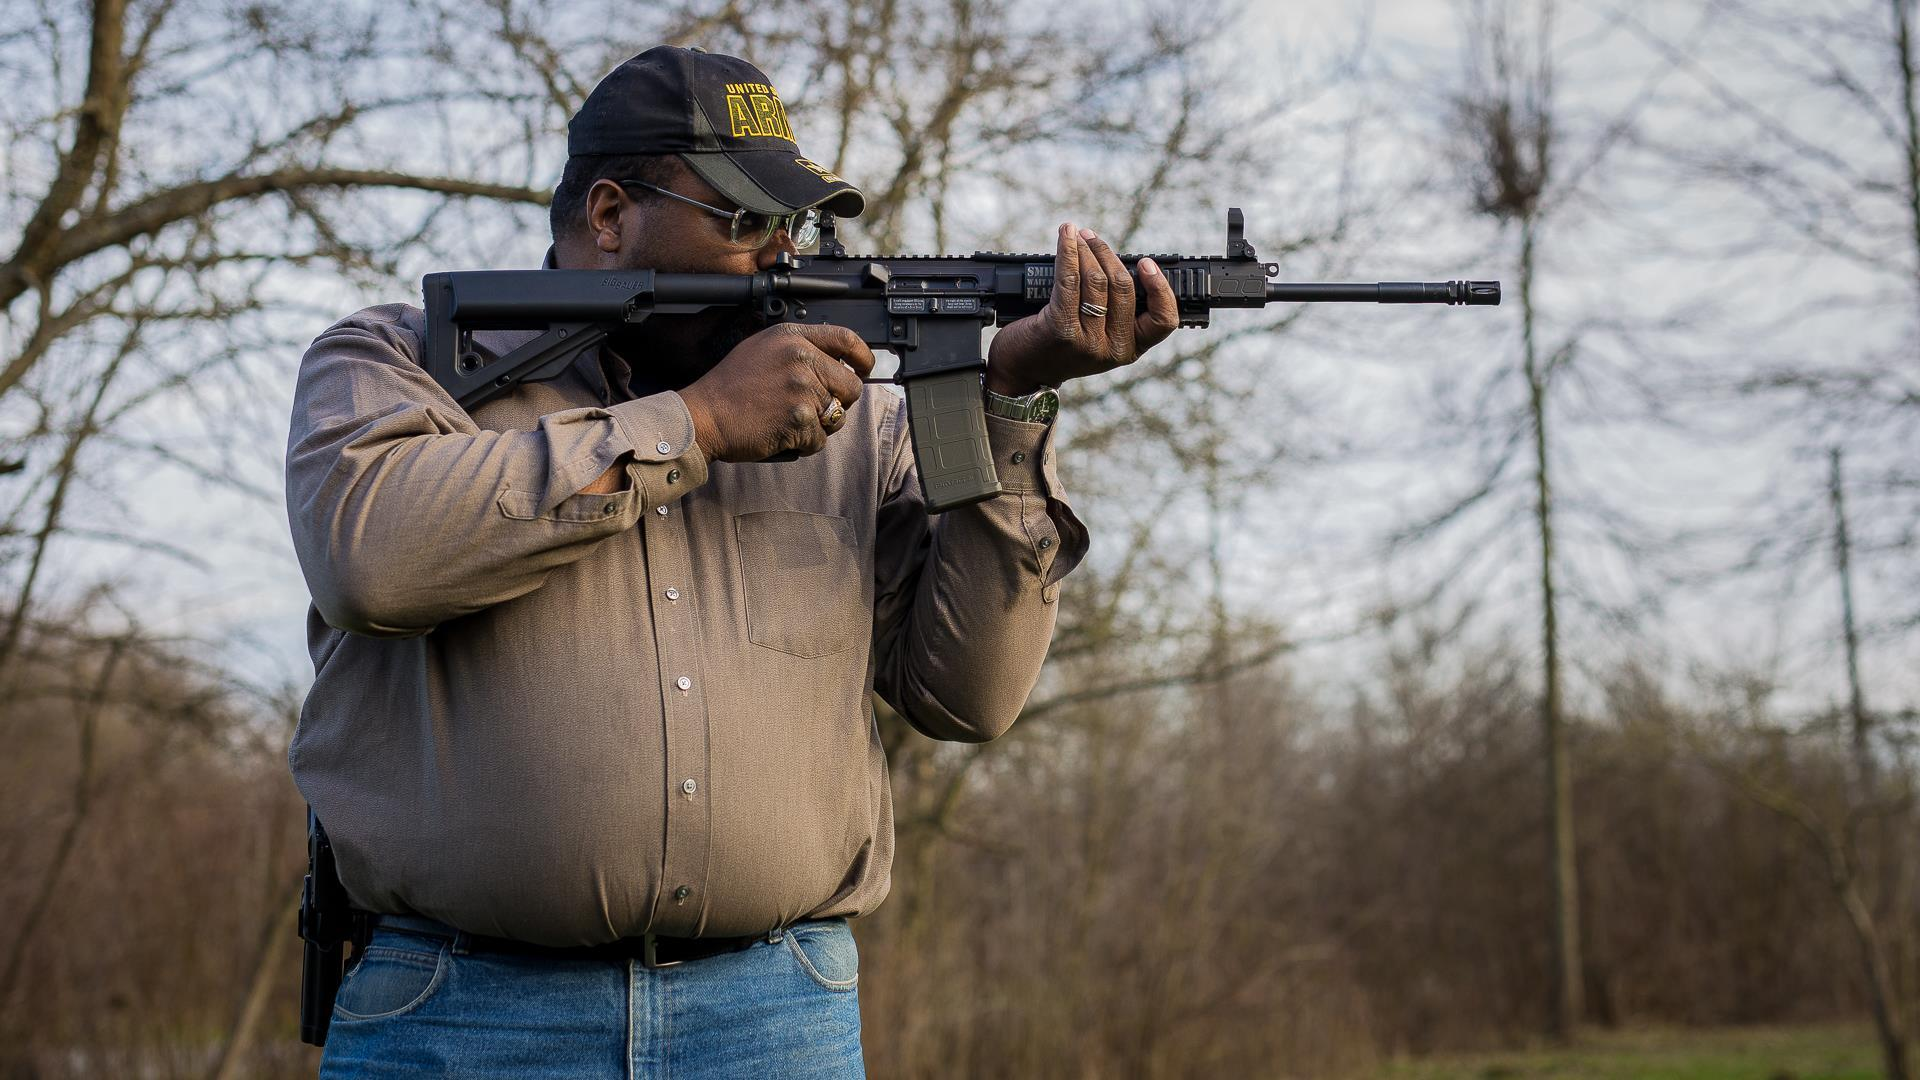Gun: (771, 253, 1484, 448)
